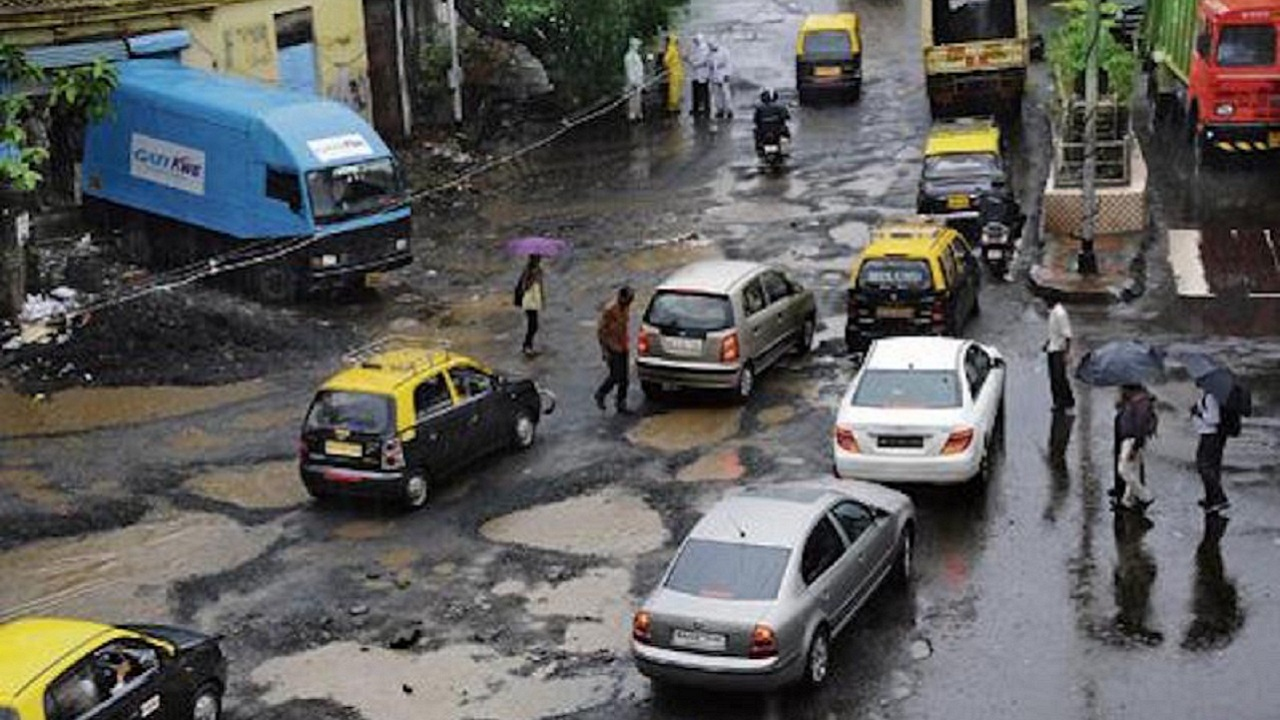pothole: (257, 601, 611, 717), (0, 350, 280, 459), (4, 546, 324, 632), (448, 472, 696, 541), (464, 479, 670, 549), (629, 386, 807, 451), (162, 446, 316, 508), (691, 167, 822, 239), (840, 126, 915, 206), (843, 185, 876, 275)
